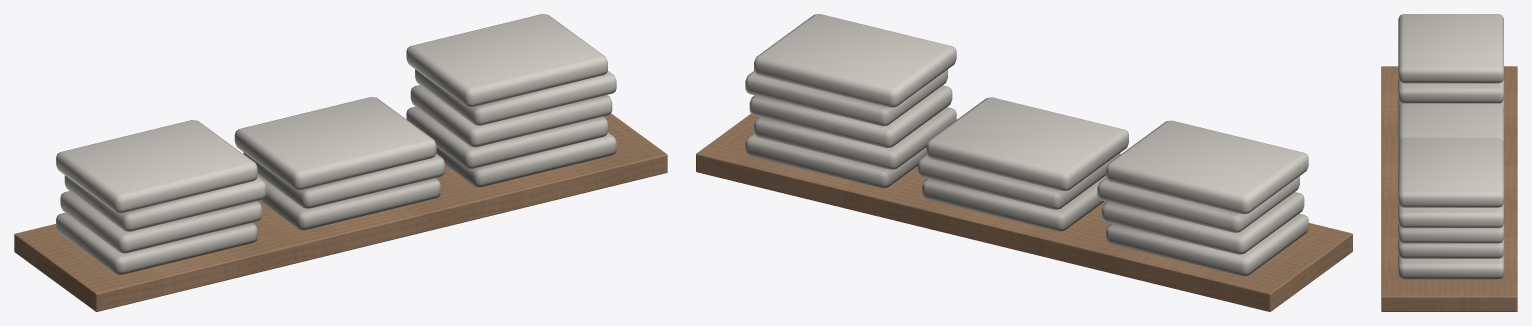
Rendered from ph_towels.gltf.
The picture shows the model from 3 angles, left to right: view 1: azimuth 30°, elevation 25°; view 2: azimuth 150°, elevation 25°; view 3: azimuth 270°, elevation 25°; orthographic projection. The views are drawn at different scales.
Parts seen in each view (by area): view 1: PHTowels, PHTowels_Shelf; view 2: PHTowels, PHTowels_Shelf; view 3: PHTowels, PHTowels_Shelf.
Boxes of the visible parts, x1,y1,x2,y2 form: PHTowels: (56,14,616,274); PHTowels_Shelf: (14,113,667,311); PHTowels: (745,14,1308,276); PHTowels_Shelf: (696,114,1352,311); PHTowels: (1398,14,1503,279); PHTowels_Shelf: (1381,66,1517,311).
Bounding box in the file's own units: 1.6 × 0.321 × 0.4.
2 materials, 1 textured.
